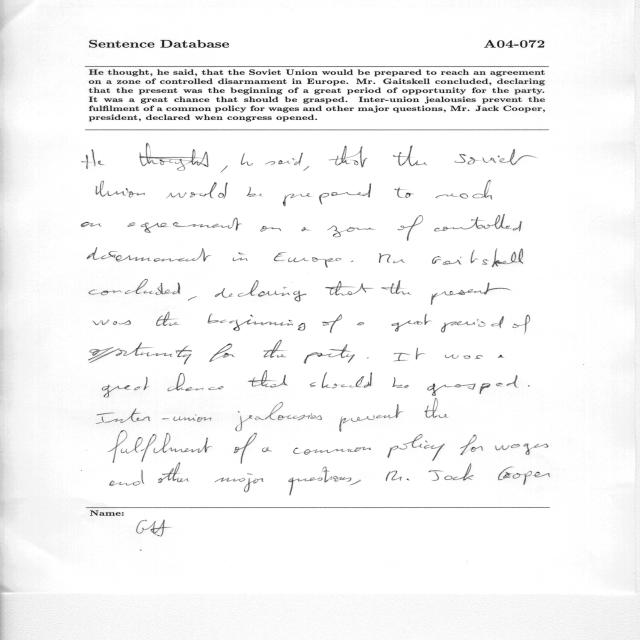word: (108, 430, 212, 463), (235, 402, 322, 432), (88, 343, 192, 365), (283, 184, 371, 207), (215, 280, 306, 302), (140, 143, 209, 171), (427, 375, 518, 396), (87, 247, 211, 262), (97, 408, 212, 424), (289, 467, 352, 496), (339, 404, 403, 432), (431, 283, 511, 305), (432, 248, 523, 267), (127, 218, 242, 233), (208, 314, 306, 331), (387, 434, 445, 461), (434, 215, 522, 232), (89, 279, 180, 295), (454, 149, 536, 165), (436, 180, 492, 200), (274, 252, 342, 268), (166, 182, 228, 199), (310, 372, 372, 389), (304, 344, 355, 364), (441, 316, 504, 332), (168, 373, 224, 391), (102, 377, 149, 398), (214, 474, 264, 493), (498, 467, 550, 485), (329, 146, 368, 168), (96, 181, 145, 198), (429, 463, 474, 481), (265, 153, 309, 171), (391, 314, 432, 332), (393, 146, 427, 167), (234, 433, 257, 464), (248, 371, 288, 388), (325, 281, 373, 295), (398, 215, 423, 241), (495, 443, 549, 455), (293, 447, 371, 455), (158, 463, 189, 483), (110, 470, 144, 486), (327, 226, 375, 237), (424, 398, 449, 418), (209, 343, 235, 362), (460, 435, 483, 455), (381, 280, 411, 295), (82, 149, 104, 169), (393, 348, 426, 361), (264, 340, 287, 358), (322, 314, 342, 333), (513, 315, 531, 334), (156, 312, 180, 326), (379, 253, 405, 263), (386, 471, 410, 481), (93, 320, 131, 326), (394, 187, 414, 198), (445, 355, 483, 360), (392, 377, 409, 388), (241, 153, 253, 166), (247, 187, 262, 197), (260, 226, 281, 232), (233, 253, 248, 261), (81, 222, 102, 227), (349, 480, 361, 485), (221, 165, 228, 173), (262, 447, 272, 452), (188, 296, 197, 301), (302, 227, 311, 231), (357, 322, 364, 326), (353, 160, 358, 165), (498, 355, 504, 358), (351, 261, 354, 262), (367, 358, 369, 359), (528, 385, 529, 387)
